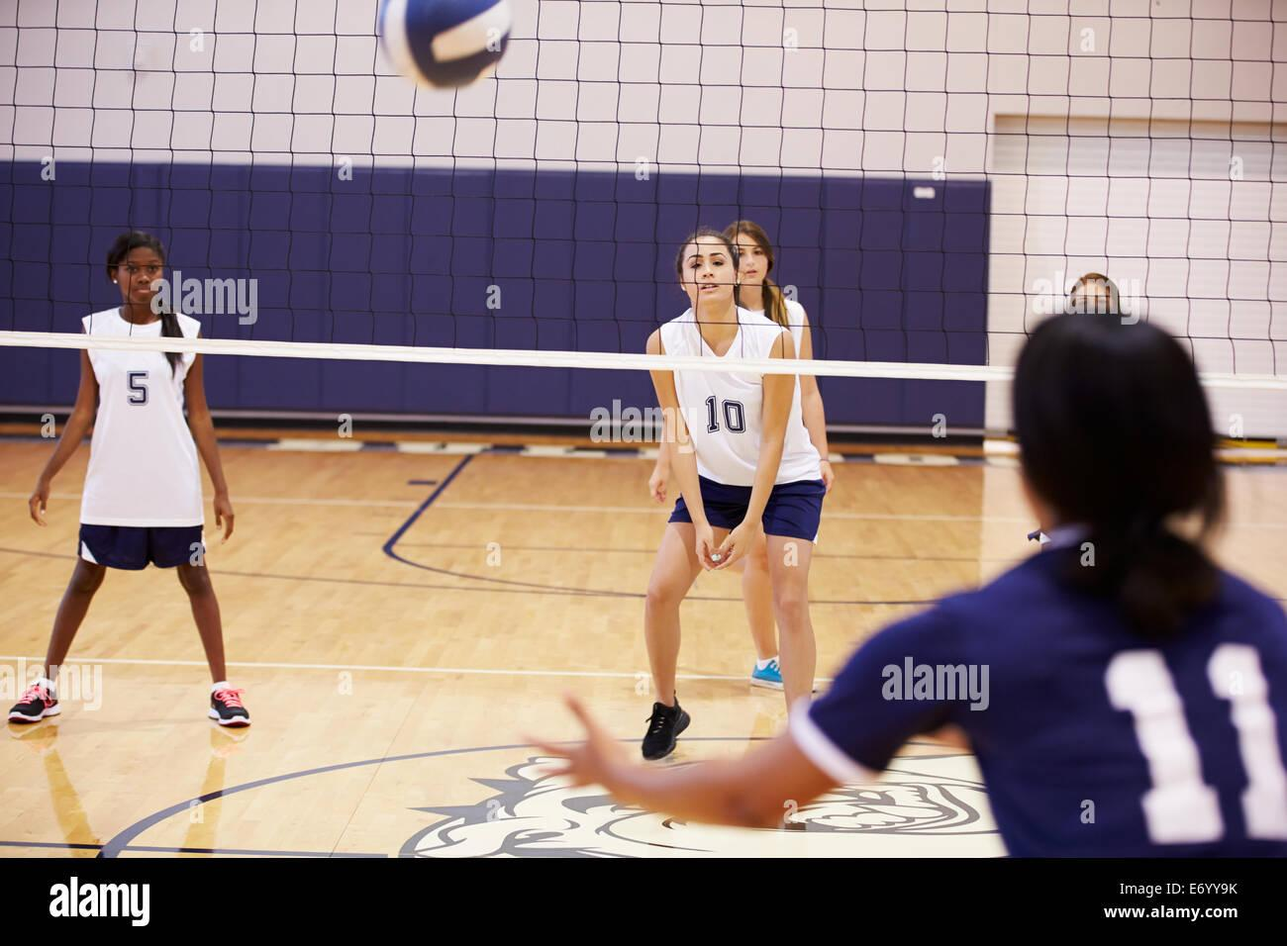ballon_volley: (369, 0, 516, 95)
